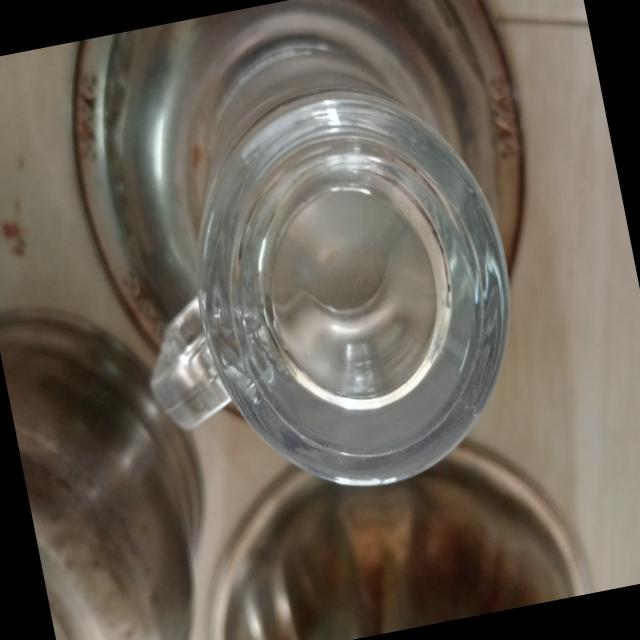glass-VX4N: (100, 46, 548, 526)
